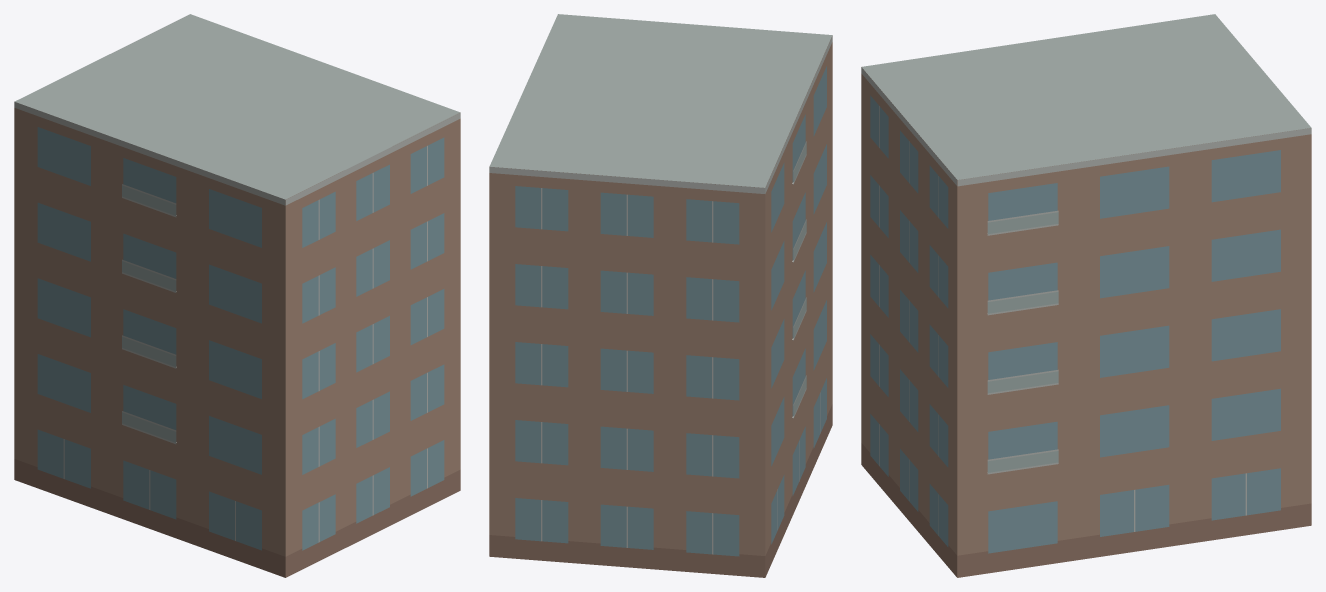
Rendered from survey-upis-32709105.glb.
3 renders of one model, left to right at view 1: azimuth 30°, elevation 25°; view 2: azimuth 150°, elevation 25°; view 3: azimuth 270°, elevation 25°, orthographic. The views are drawn at different scales.
Visible parts, largest first — view 1: survey-upis-32709105.tmp; view 2: survey-upis-32709105.tmp; view 3: survey-upis-32709105.tmp.
Part boxes in pixels (x1=…): survey-upis-32709105.tmp: x1=14, y1=14, x2=460, y2=577; survey-upis-32709105.tmp: x1=489, y1=14, x2=832, y2=577; survey-upis-32709105.tmp: x1=861, y1=14, x2=1311, y2=577.
Size of the model in its own units: 13.66 by 15.25 by 15.65.
